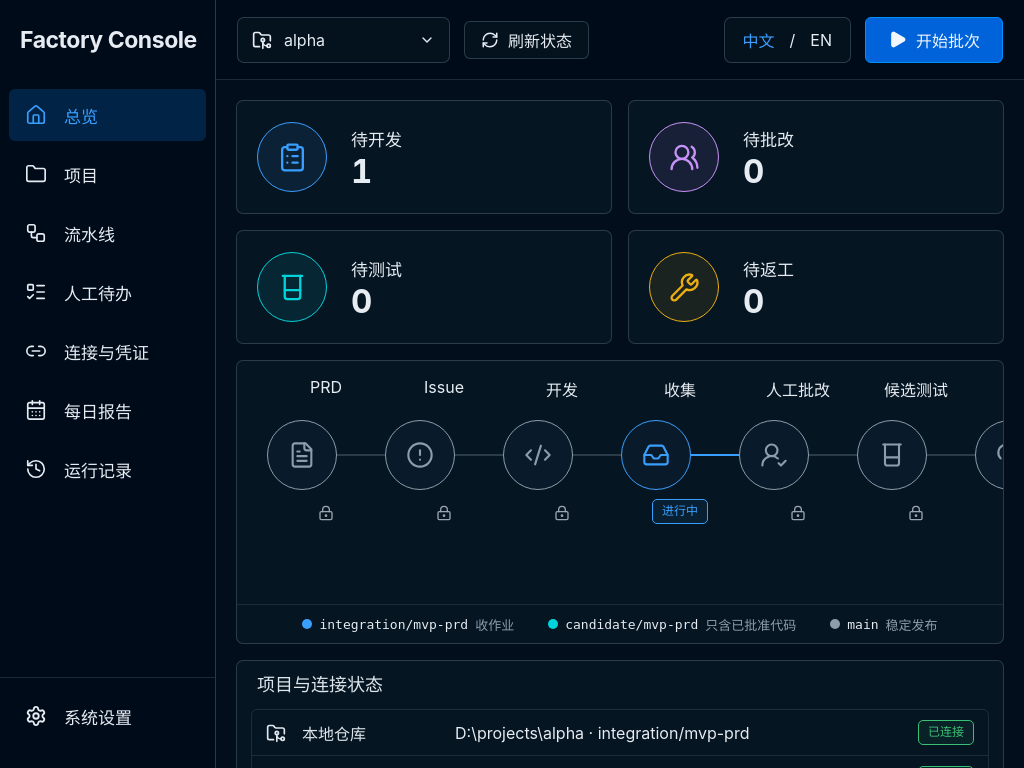
it: Factory Console interactions › traps confirmation focus and restores it on Escape without running a command
Click the button "开始批次" at [934, 40], box [865,16,1003,62]
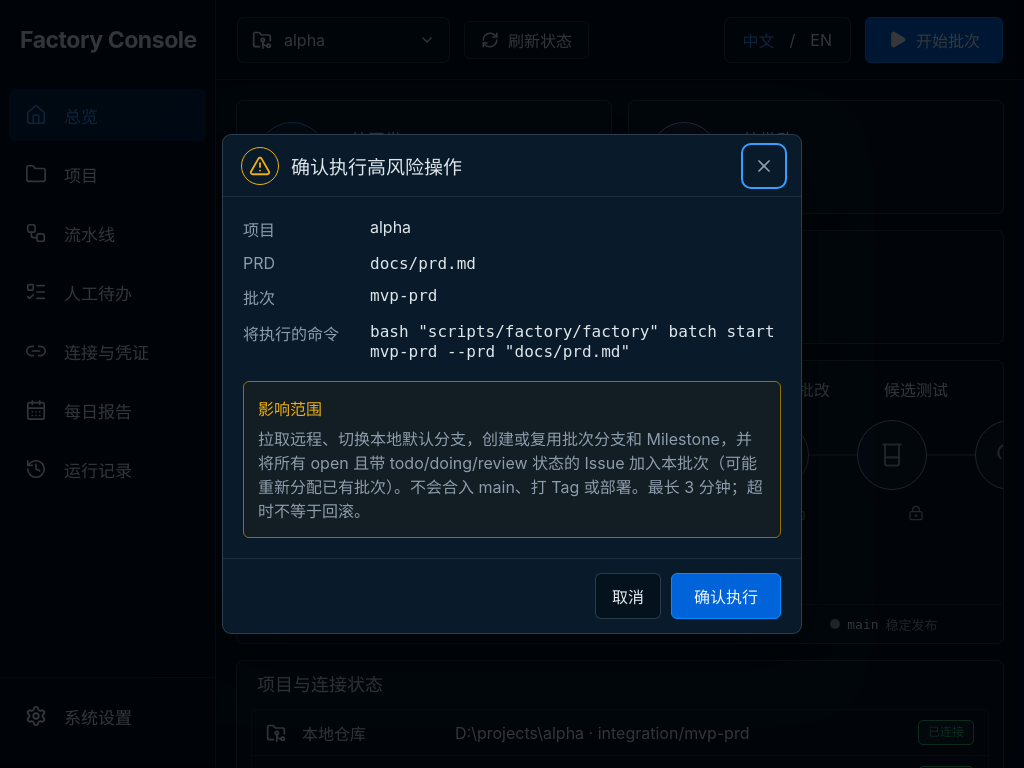
Press Shift+Tab
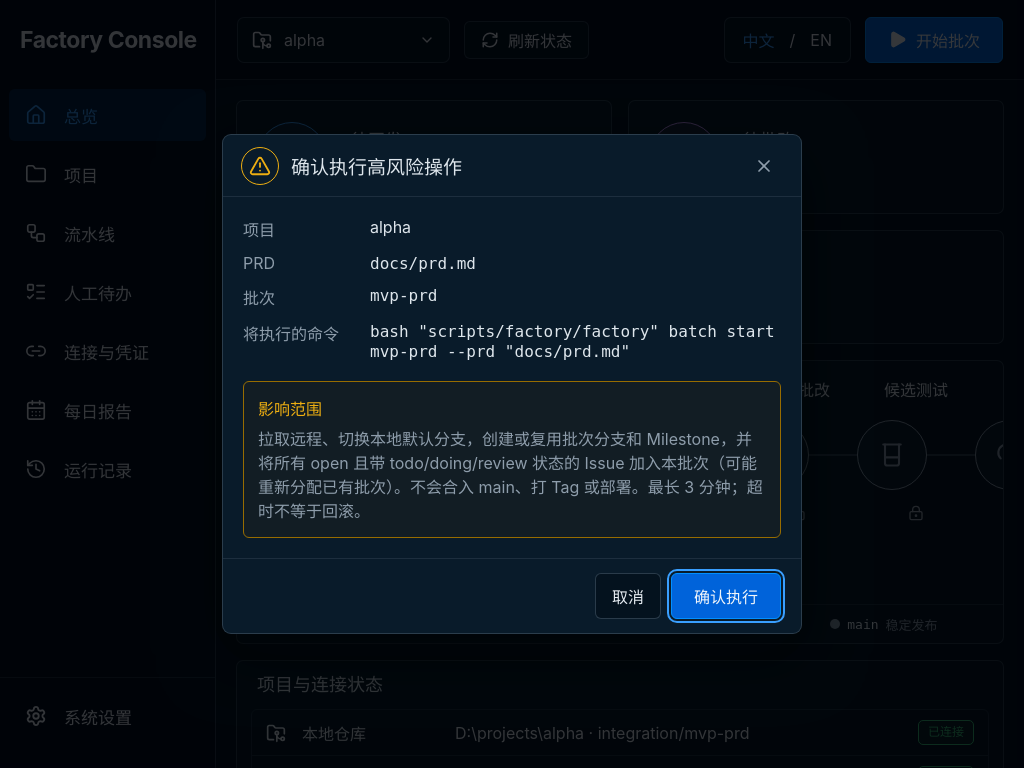
Press Escape
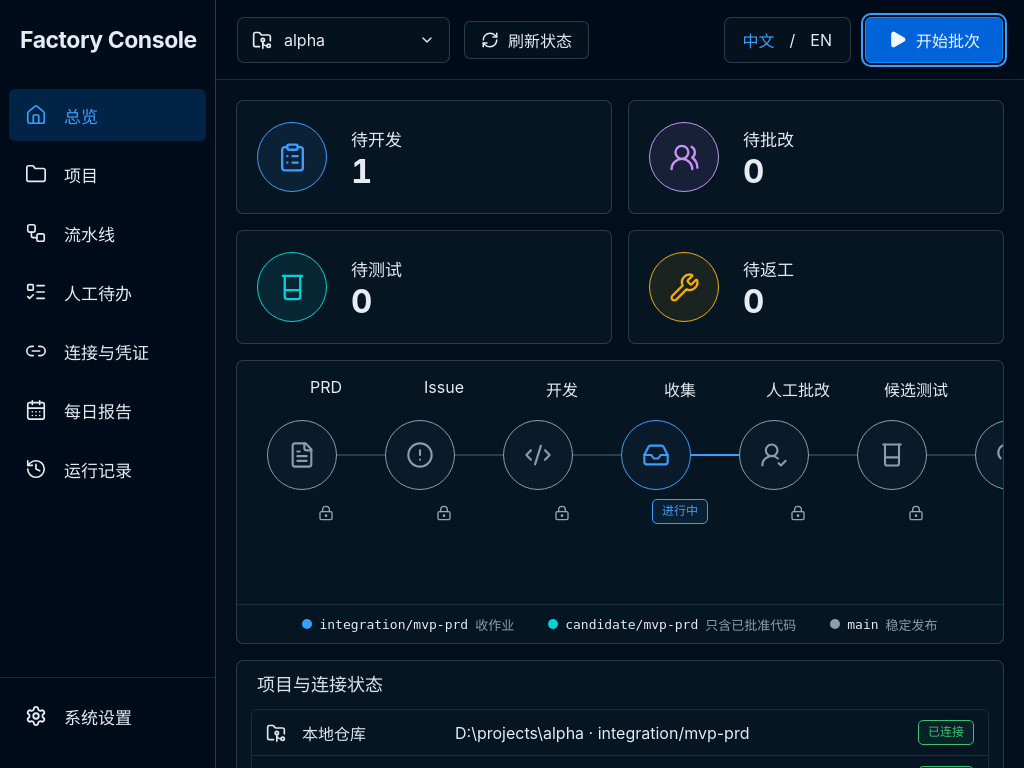
Expected: the dialog is gone
